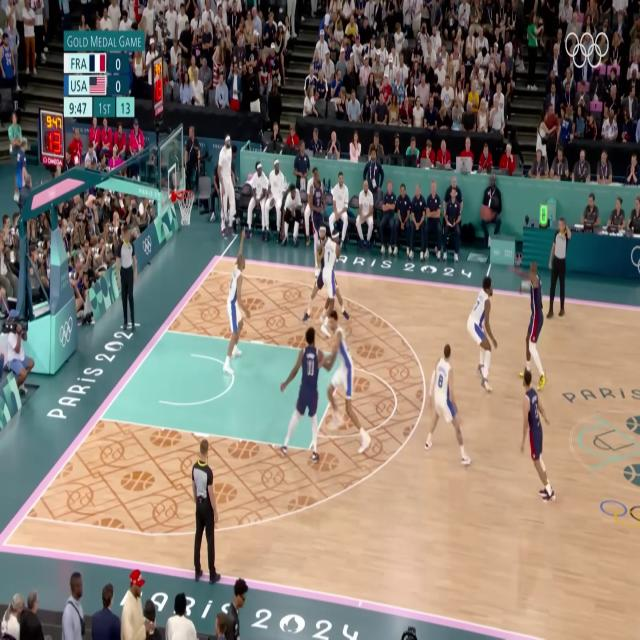player: (310, 294, 377, 462), (499, 242, 558, 390), (514, 354, 570, 504), (273, 319, 330, 459), (422, 324, 469, 476), (214, 221, 256, 380), (461, 270, 506, 393), (320, 213, 355, 334), (294, 204, 328, 324)
